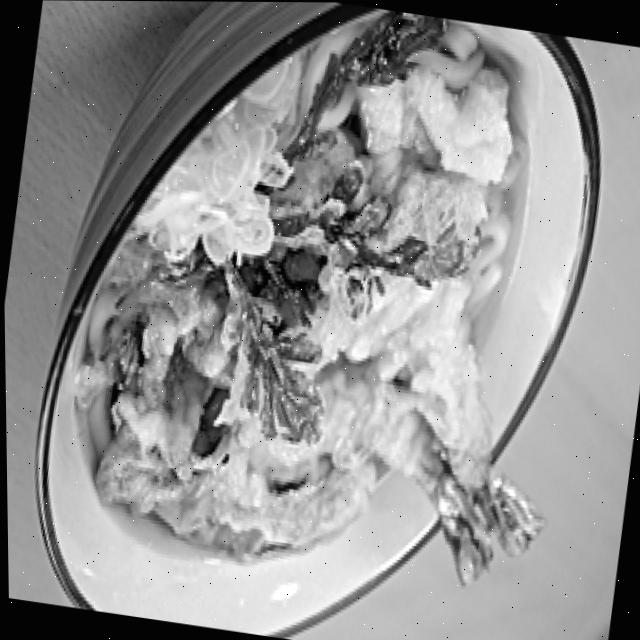面条主食: (35, 0, 612, 637)
